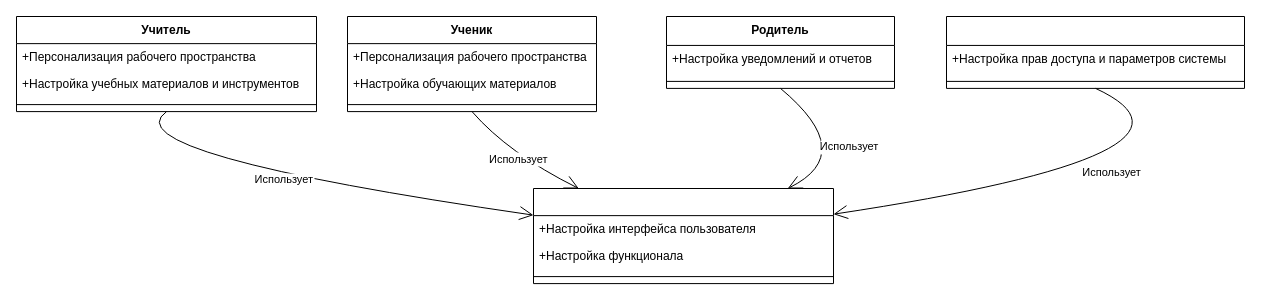
Image size: 1261x300. Some labels were removed from this diagram. Here are the shapes that lost their labels. From the top down, the box of each, then its label:
(946, 16, 1244, 88): Администратор
(532, 188, 834, 284): ПерсонализацияиНастройка
